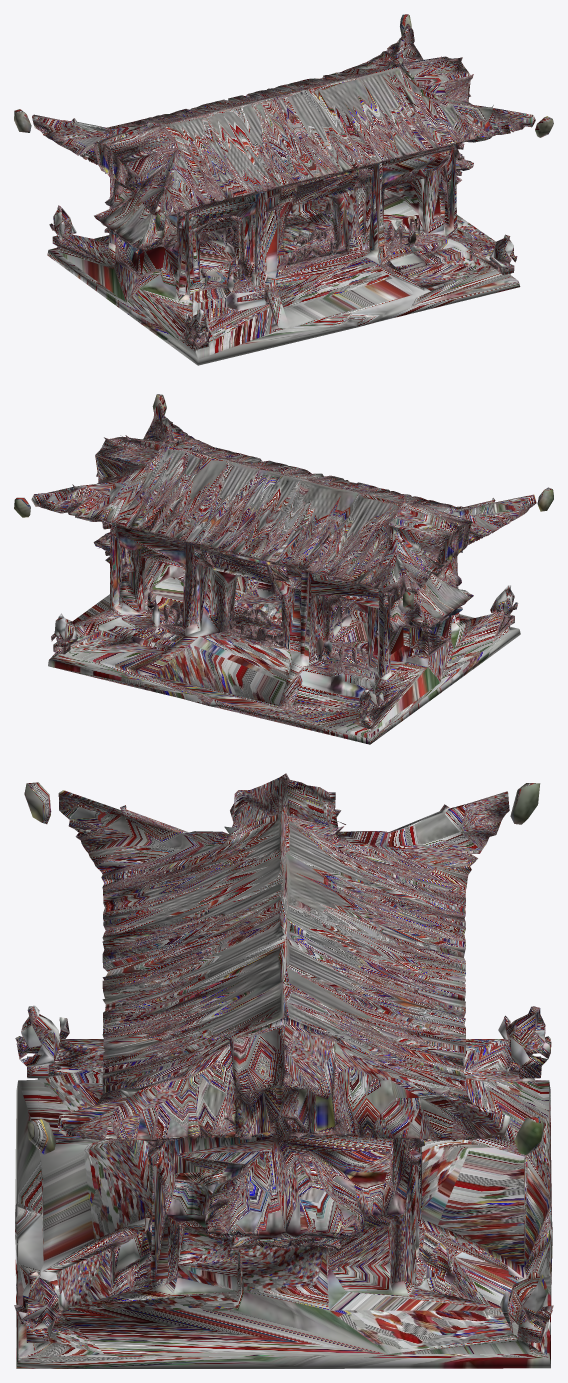
The model's file is lib_paifang.lod.glb.
3 views of the same model, one above another, from view 1: azimuth 30°, elevation 25°; view 2: azimuth 150°, elevation 25°; view 3: azimuth 270°, elevation 25° (orthographic). The views are drawn at different scales.
Bounding box in the file's own units: 1.89 × 0.8306 × 1.26.
1 material, 1 textured.
